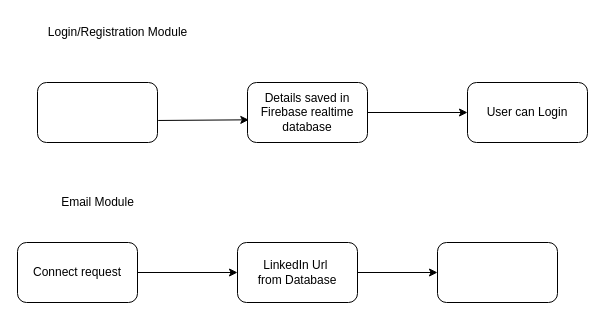
This 605x320 diagram has some shape labels left out. The shapes that lost their labels are listed below. From the top down, each one's box as (x1, y1, x2, y2) in pixels, then its label:
(36, 82, 158, 142): User registers to the app
(436, 242, 558, 302): Email Sent, with the url.
